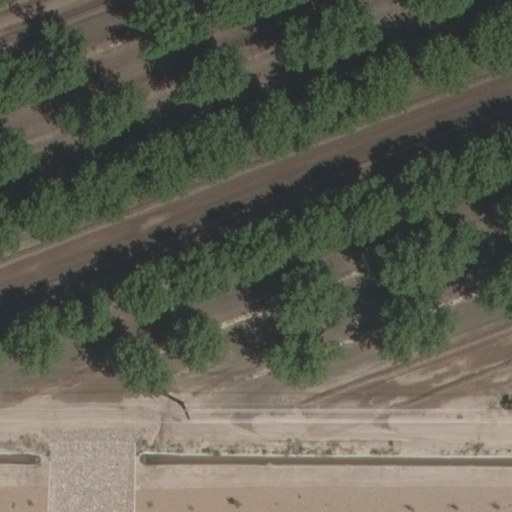DT: (176, 398, 198, 426)
